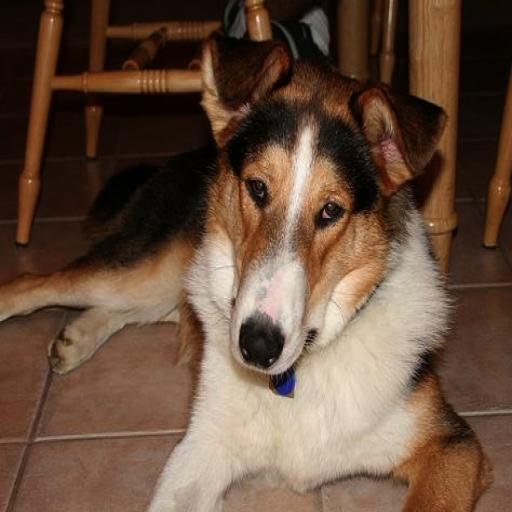dog_face: (205, 36, 436, 370)
